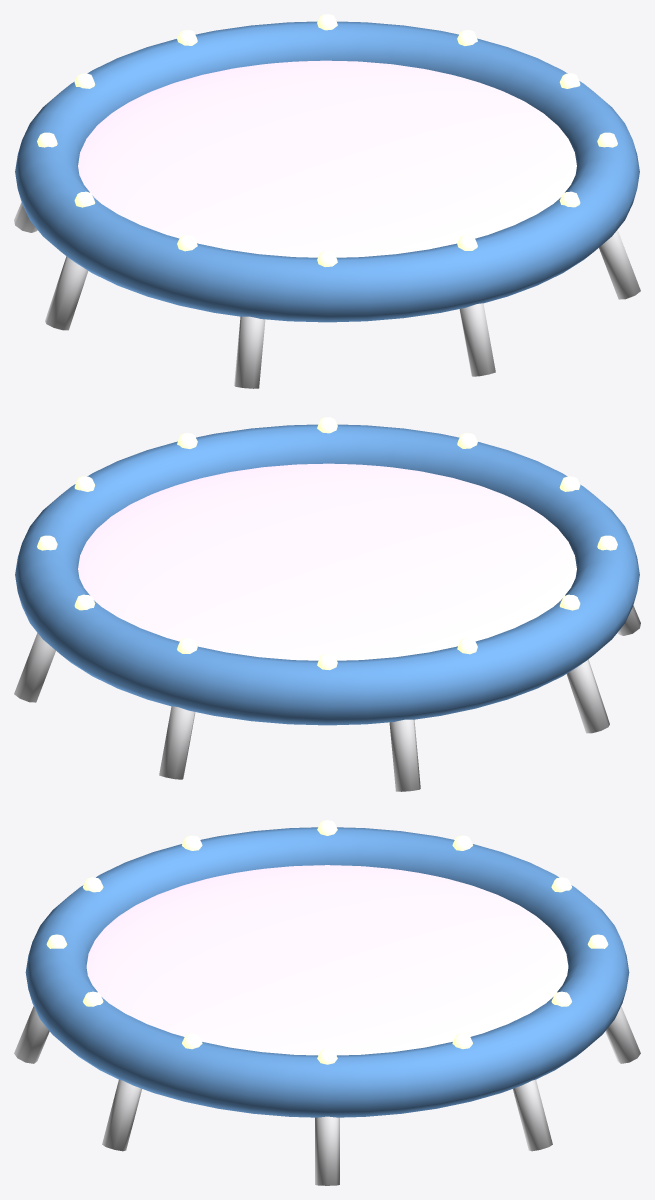
The model's file is G04_Bounce_Membrane.glb.
The picture shows the model from 3 angles, top to bottom: view 1: azimuth 30°, elevation 25°; view 2: azimuth 150°, elevation 25°; view 3: azimuth 270°, elevation 25°; orthographic projection. The views are drawn at different scales.
Visible parts, largest first — view 1: G04_Bounce_Membrane_Mesh, G04_Anim_Membrane; view 2: G04_Bounce_Membrane_Mesh, G04_Anim_Membrane; view 3: G04_Bounce_Membrane_Mesh, G04_Anim_Membrane.
Part boxes in pixels (x1,y1,x2,y2): G04_Bounce_Membrane_Mesh: (14,14,640,388); G04_Anim_Membrane: (78,60,576,257); G04_Bounce_Membrane_Mesh: (14,417,640,791); G04_Anim_Membrane: (78,463,576,660); G04_Bounce_Membrane_Mesh: (14,820,640,1185); G04_Anim_Membrane: (86,865,568,1055).
Bounding box in the file's own units: 3.01 × 0.6711 × 3.01.
